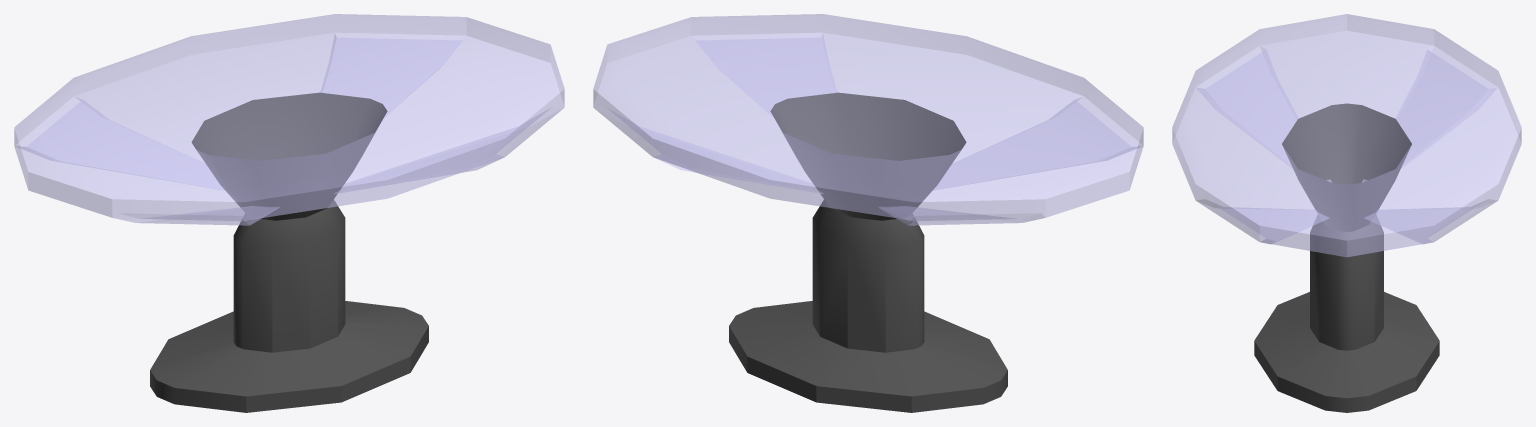
The model's file is table17.fbx.
The picture shows the model from 3 angles, left to right: view 1: azimuth 30°, elevation 25°; view 2: azimuth 150°, elevation 25°; view 3: azimuth 270°, elevation 25°; orthographic projection. The views are drawn at different scales.
Parts seen in each view (by area): view 1: Table17; view 2: Table17; view 3: Table17.
Boxes of the visible parts, x1,y1,x2,y2 form: Table17: (14, 14, 564, 412); Table17: (593, 14, 1143, 412); Table17: (1172, 14, 1521, 412).
Size of the model in its own units: 164 by 79.17 by 107.
